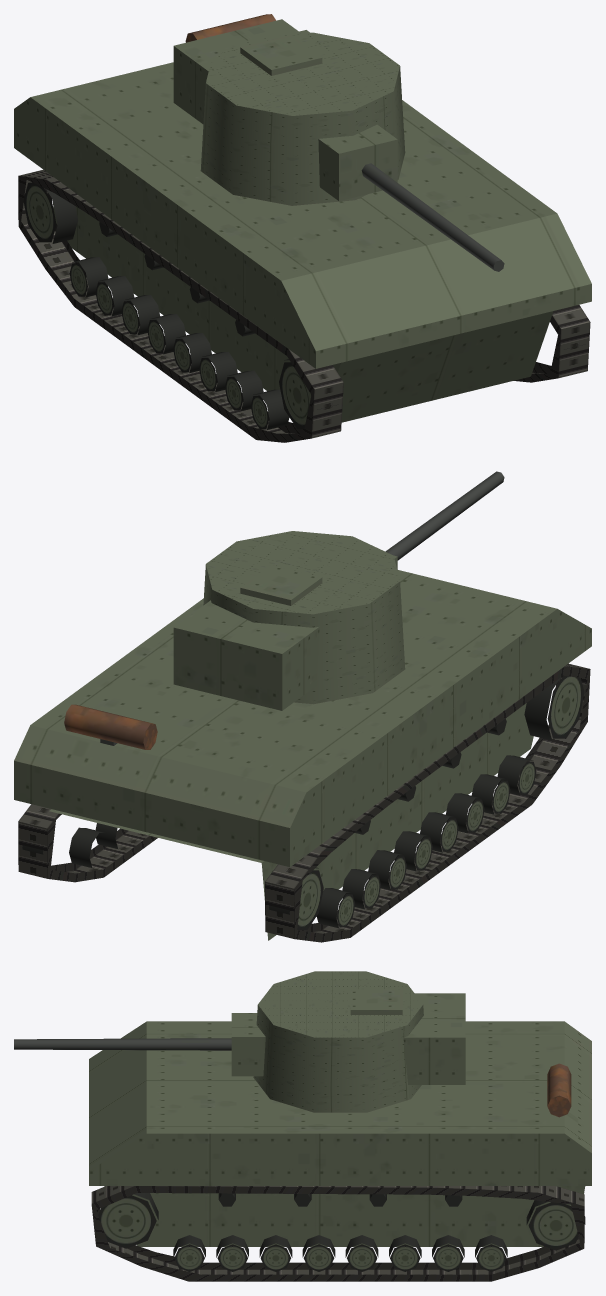
File: armor-2.glb
3 views of the same model, one above another, from view 1: azimuth 30°, elevation 25°; view 2: azimuth 150°, elevation 25°; view 3: azimuth 270°, elevation 25° (orthographic). The views are drawn at different scales.
Visible parts, largest first — view 1: hull, turret, tracks_right, gun, tracks_left, roue_folle_right, hatch, barbotin_right, galet_right_8, galet_right_1, galet_right_2, galet_right_6 (+4 smaller); view 2: hull, turret, tracks_right, tracks_left, barbotin_right, hatch, gun, galet_right_1, roue_folle_right, galet_right_6, galet_right_5, galet_right_4 (+5 smaller); view 3: hull, turret, tracks_left, gun, barbotin_left, roue_folle_left, hatch, galet_left_4, galet_left_5, galet_left_6, galet_left_2, galet_left_8 (+3 smaller).
Part boxes in pixels (bbox=[...]): hull: bbox=[14, 14, 591, 422]; turret: bbox=[173, 19, 405, 205]; tracks_right: bbox=[18, 169, 343, 442]; gun: bbox=[318, 124, 504, 271]; tracks_left: bbox=[514, 305, 590, 382]; roue_folle_right: bbox=[23, 182, 77, 243]; hatch: bbox=[240, 35, 322, 75]; barbotin_right: bbox=[279, 359, 338, 428]; galet_right_8: bbox=[250, 389, 289, 429]; galet_right_1: bbox=[69, 257, 108, 297]; galet_right_2: bbox=[95, 276, 134, 316]; galet_right_6: bbox=[199, 352, 237, 391]; hull: bbox=[14, 570, 591, 940]; turret: bbox=[173, 531, 405, 710]; tracks_right: bbox=[265, 663, 590, 942]; tracks_left: bbox=[18, 804, 157, 882]; barbotin_right: bbox=[524, 676, 584, 740]; hatch: bbox=[240, 565, 322, 605]; gun: bbox=[385, 471, 504, 570]; galet_right_1: bbox=[316, 888, 355, 928]; roue_folle_right: bbox=[269, 867, 323, 929]; galet_right_6: bbox=[446, 793, 484, 833]; galet_right_5: bbox=[420, 812, 458, 852]; galet_right_4: bbox=[394, 831, 432, 871]; hull: bbox=[89, 1021, 591, 1246]; turret: bbox=[253, 971, 465, 1112]; tracks_left: bbox=[91, 1186, 584, 1281]; gun: bbox=[14, 1013, 265, 1076]; barbotin_left: bbox=[96, 1193, 158, 1248]; roue_folle_left: bbox=[526, 1200, 585, 1250]; hatch: bbox=[350, 989, 402, 1014]; galet_left_4: bbox=[345, 1235, 378, 1271]; galet_left_5: bbox=[302, 1235, 335, 1271]; galet_left_6: bbox=[259, 1235, 292, 1271]; galet_left_2: bbox=[432, 1235, 464, 1271]; galet_left_8: bbox=[173, 1235, 205, 1271].
Size of the model in its own units: 2.44 by 2.29 by 5.31.
Materials: 5 (5 with a texture image).
